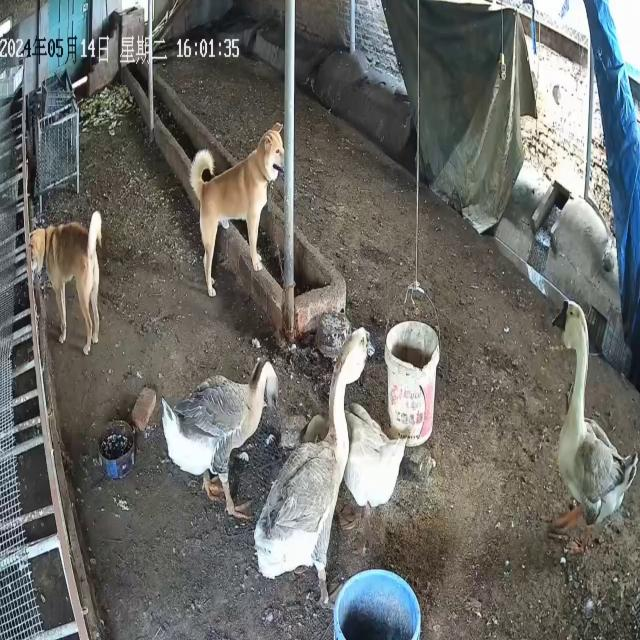dog: (189, 122, 286, 299), (30, 211, 103, 357)
